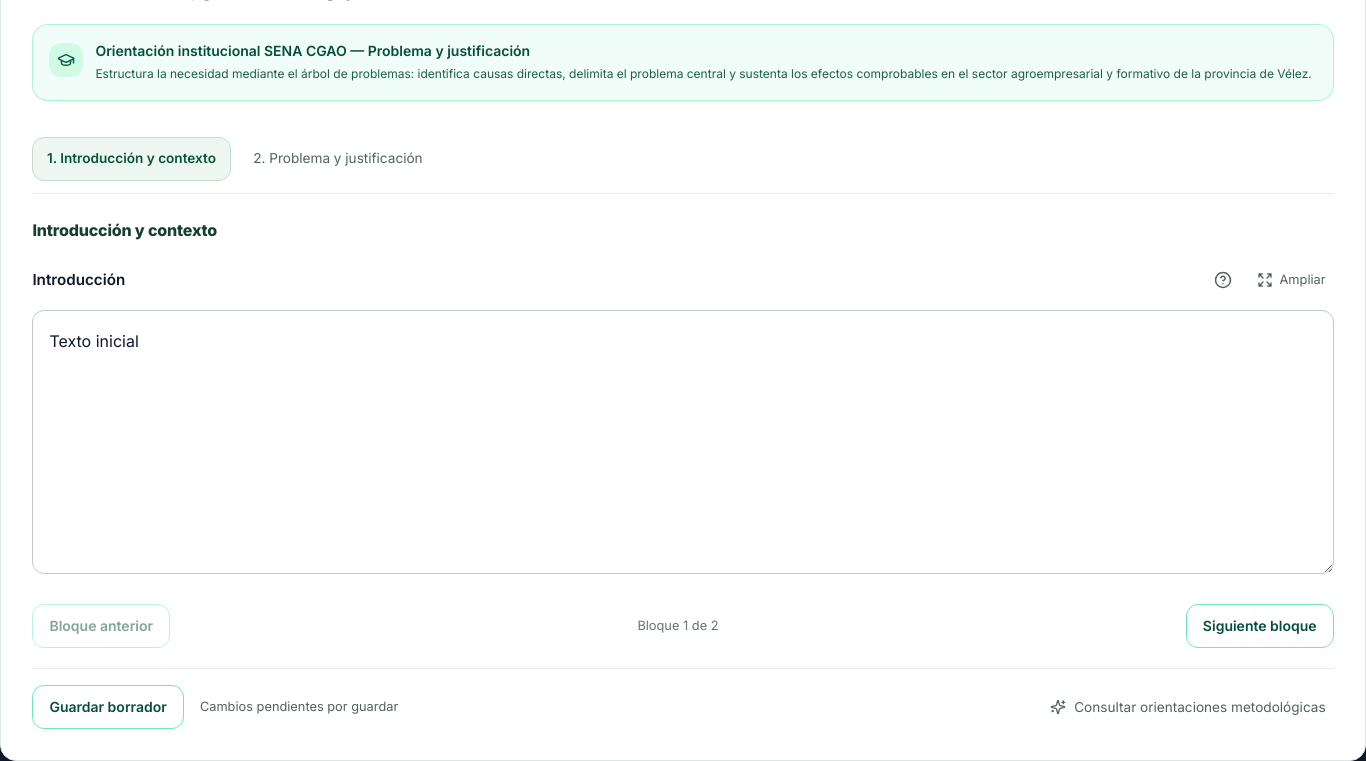
Test: Documentación con información progresiva › informa cuando la consulta termina sin recomendaciones adicionales
This screenshot has width=1366, height=761.
(page scrolled)
Click the button "Consultar orientaciones metodológicas" at [1188, 707], box [1042,685,1334,729]
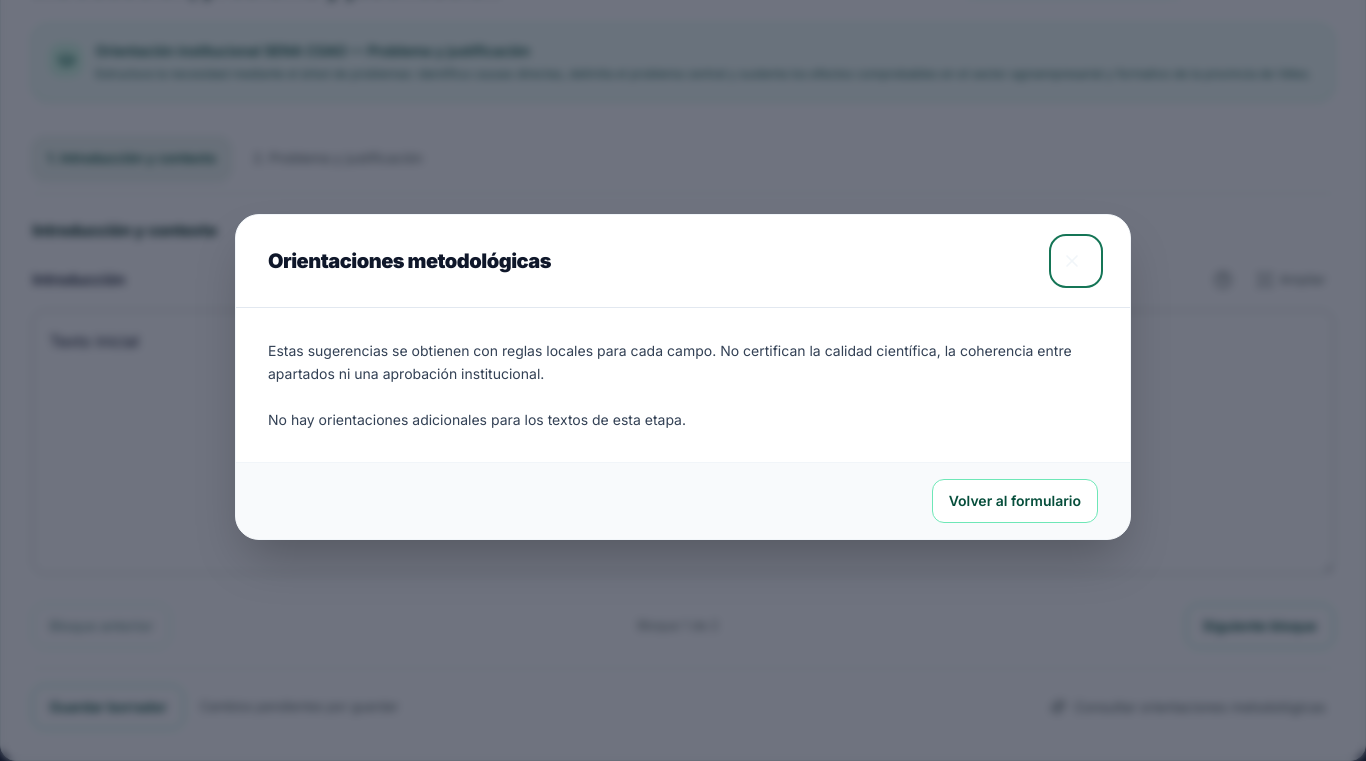
Check: the text "No hay orientaciones adicionales para los textos de esta etapa." is shown, box [268,411,686,428]
